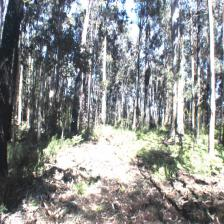trunktrack_idkeyframe: (207, 69, 215, 151), (69, 82, 80, 134)
